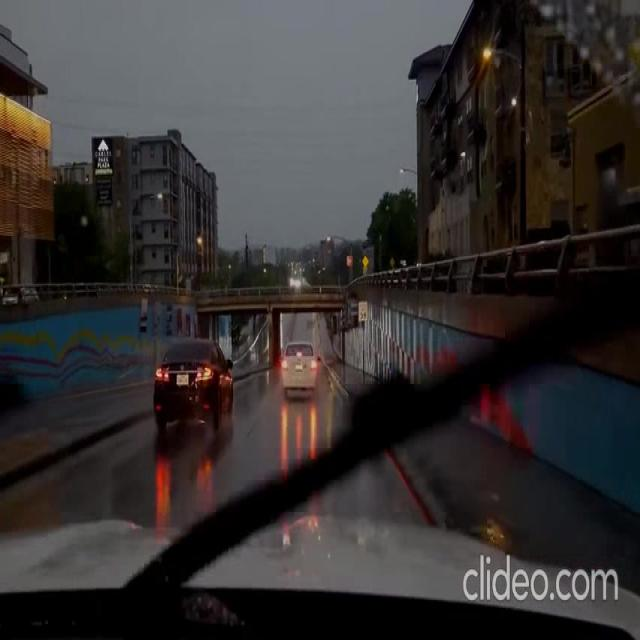Car: (154, 334, 233, 430), (281, 338, 318, 398)
